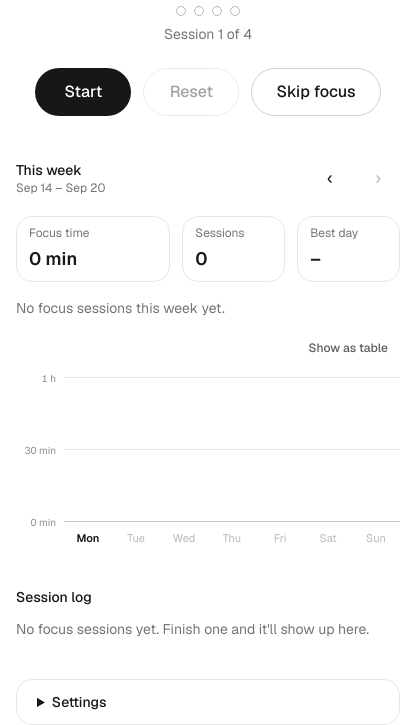
Test: settings › changes the length of a phase that hasn't started
(page scrolled)
Click the heading "Settings" at x=79, y=702, box [52,692,106,710]
(page scrolled)
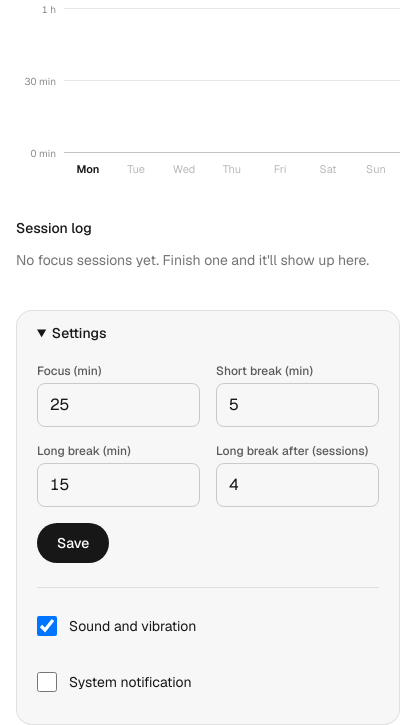
Replace the text in the number field labelled "Focus (min)" with "50" at x=118, y=404, box [37,382,200,426]
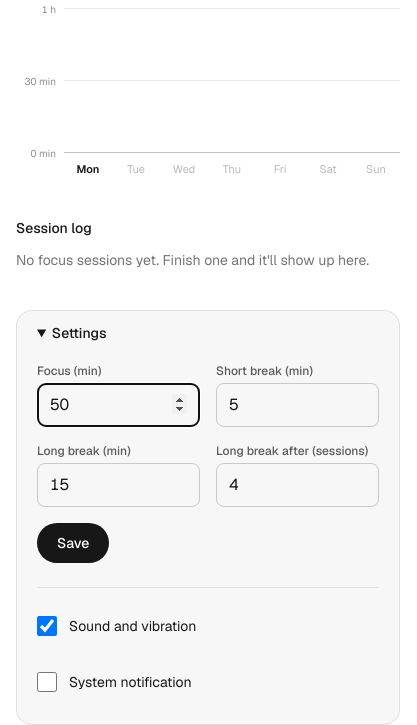
Click the button "Save" at x=73, y=542, box [37,522,109,562]
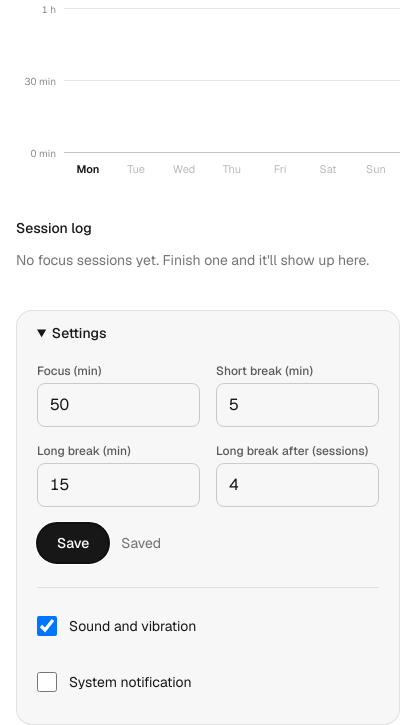
Now the message reads "Saved", box [121,534,161,552]
